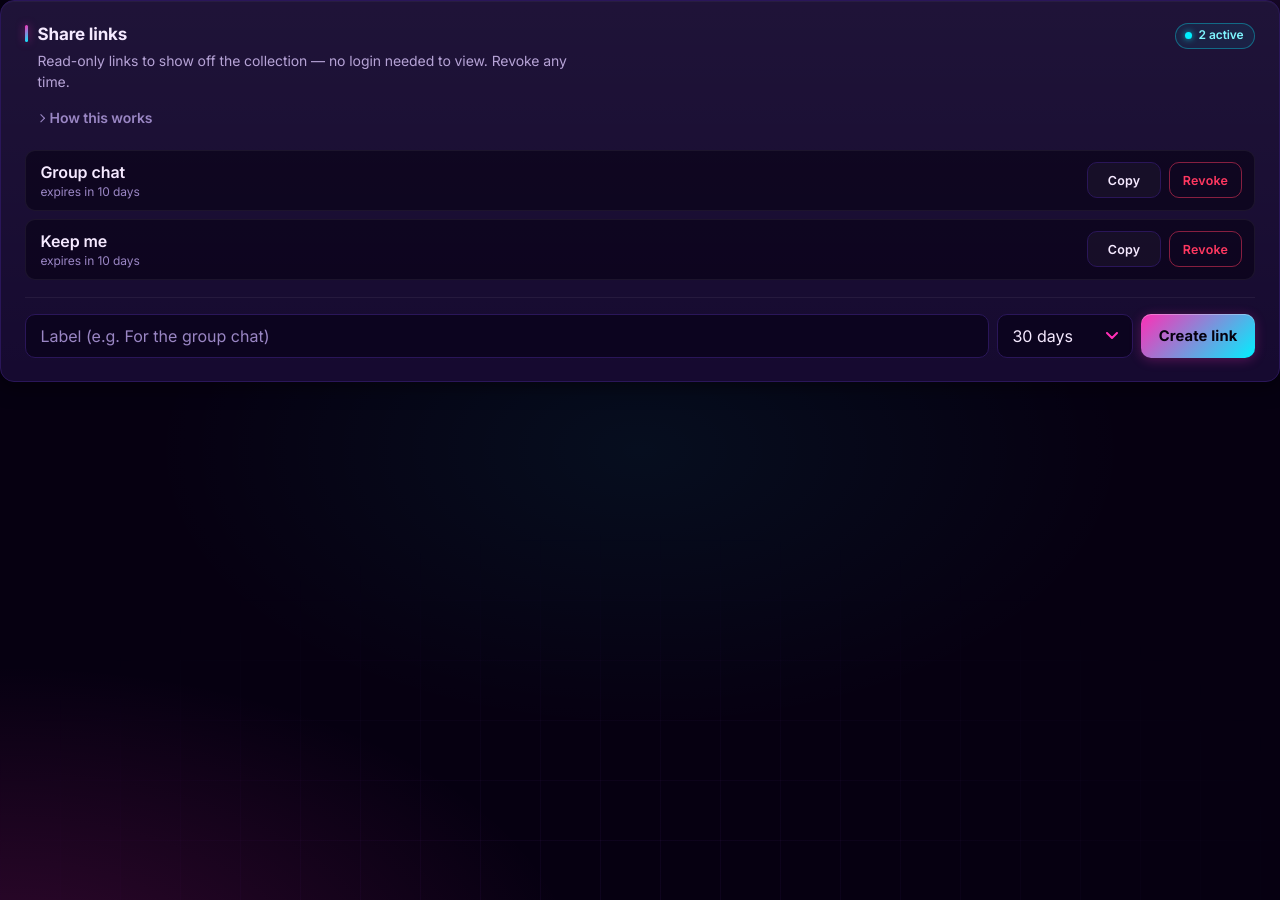
Test: ShareLinksCard › removes the link as soon as the revoke is confirmed, before the server answers
Step 1. Click the button with aria-label "Revoke link: Group chat" → (1205, 180), box [1169,162,1242,198]
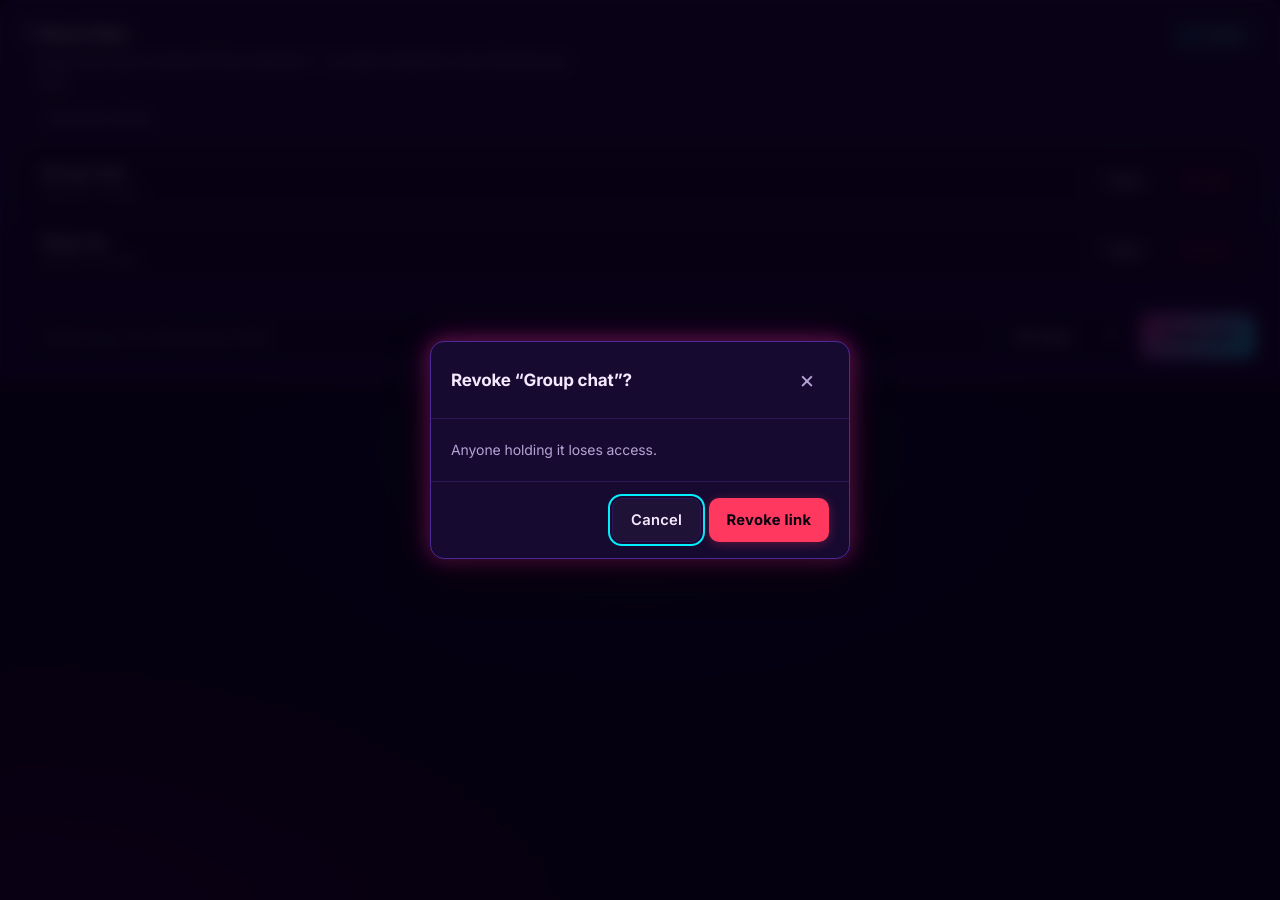
Step 2. Click the button "Revoke link" → (769, 520), box [709,498,829,542]
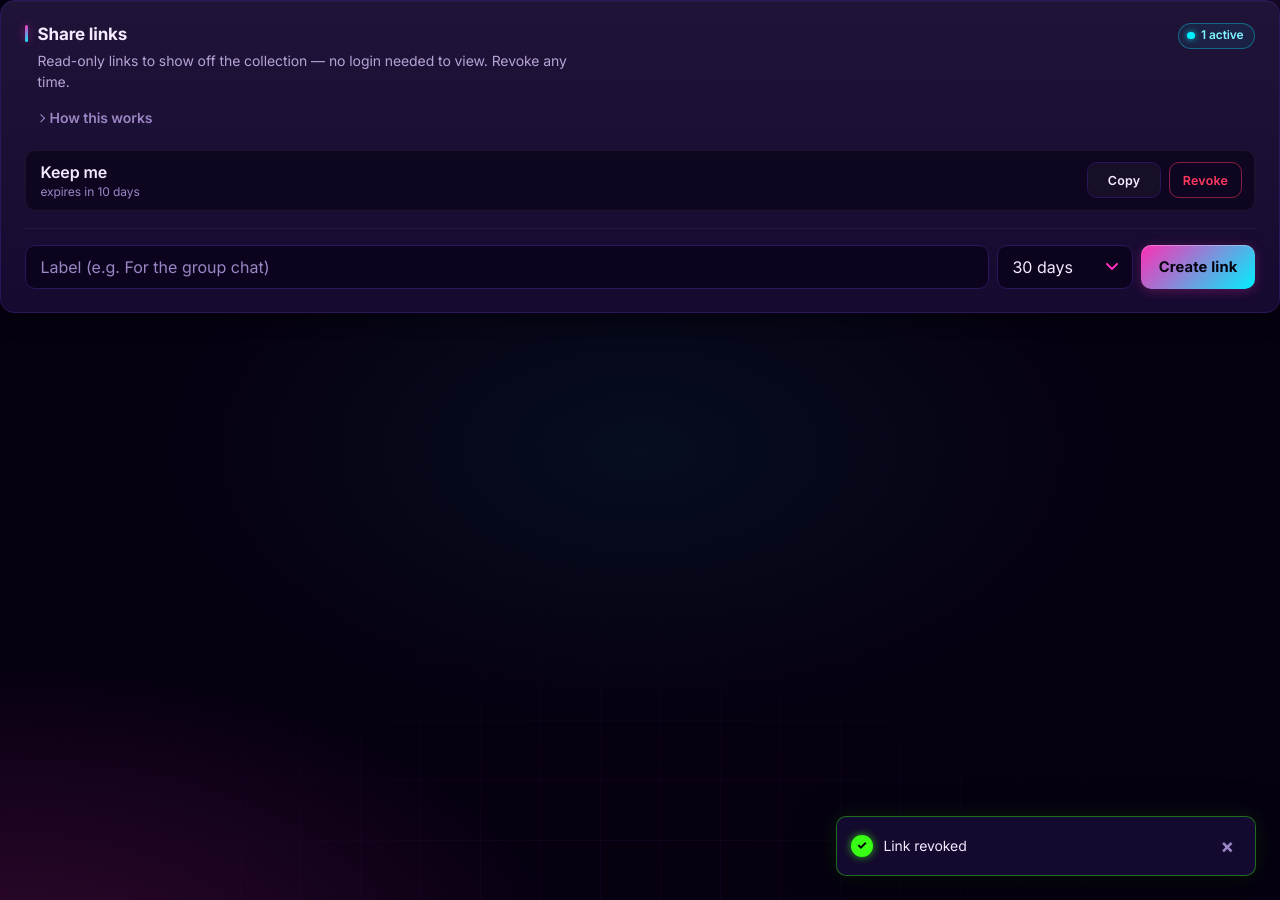
Check: the text "Keep me" is shown, box [40,162,107,182]
Check: the text "Link revoked" is shown, box [883,837,967,854]
